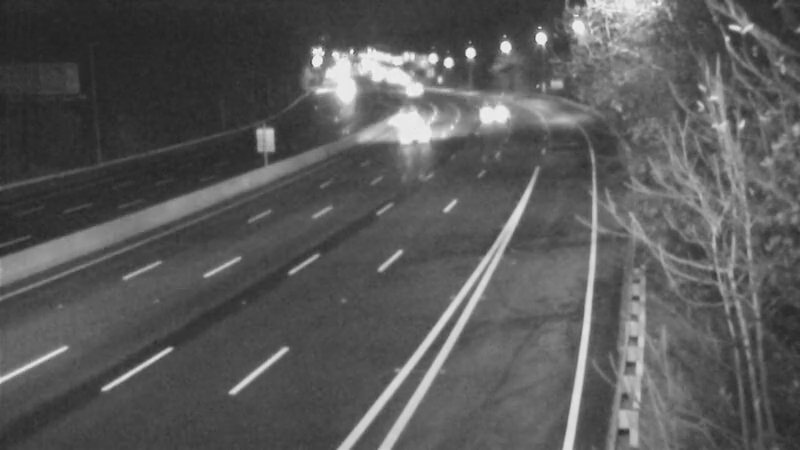vehicle: (389, 65, 439, 115), (464, 84, 514, 134), (380, 94, 430, 144), (390, 110, 440, 160)
